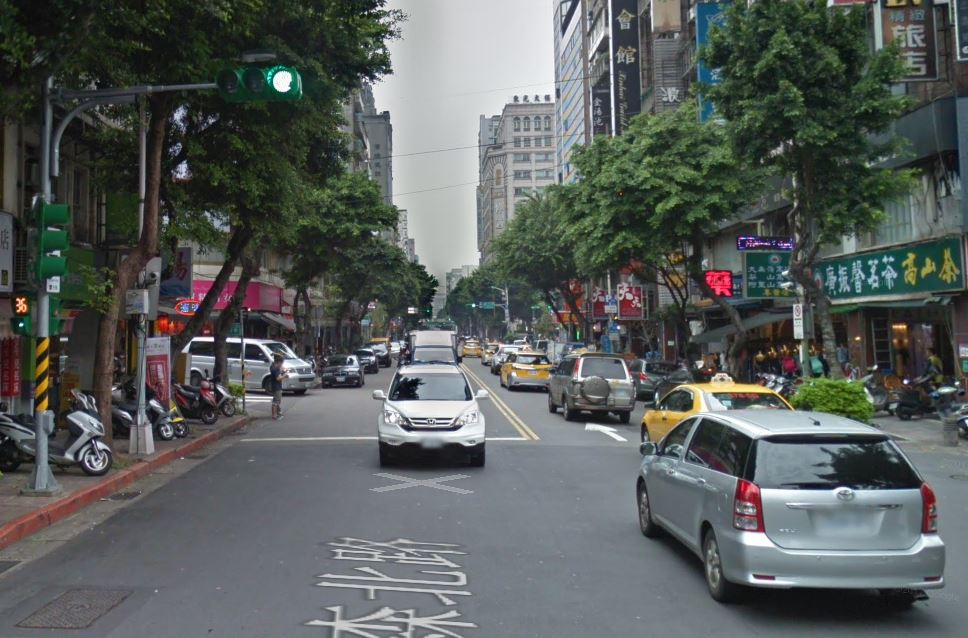Traffic_light_green: (213, 62, 304, 104)
car: (631, 405, 953, 615), (370, 360, 492, 477), (546, 351, 638, 427)
